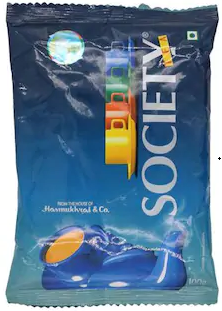society: (3, 1, 220, 309)
